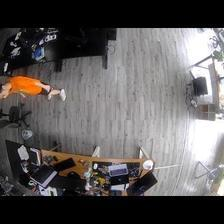normal: (1, 74, 66, 104)
